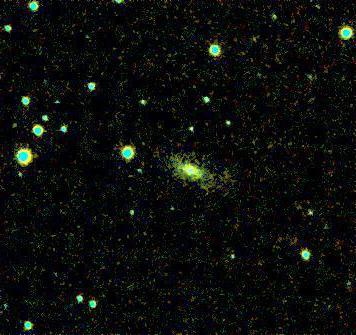star: (66, 210, 96, 240)
